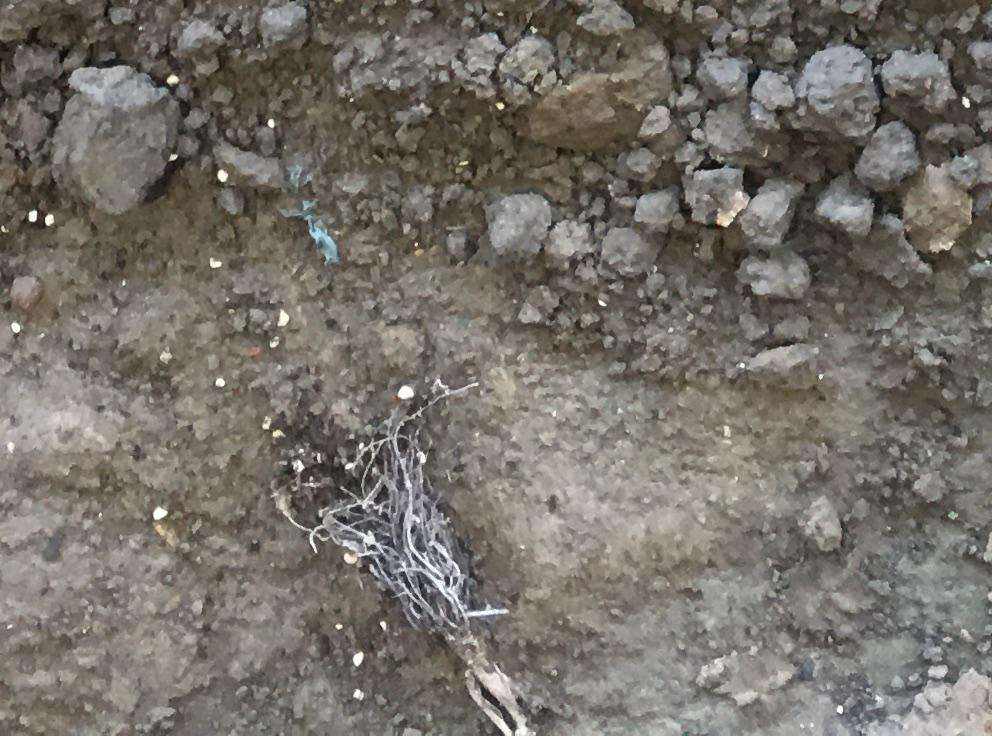block: (51, 66, 184, 222), (784, 44, 873, 144), (904, 163, 975, 264)
